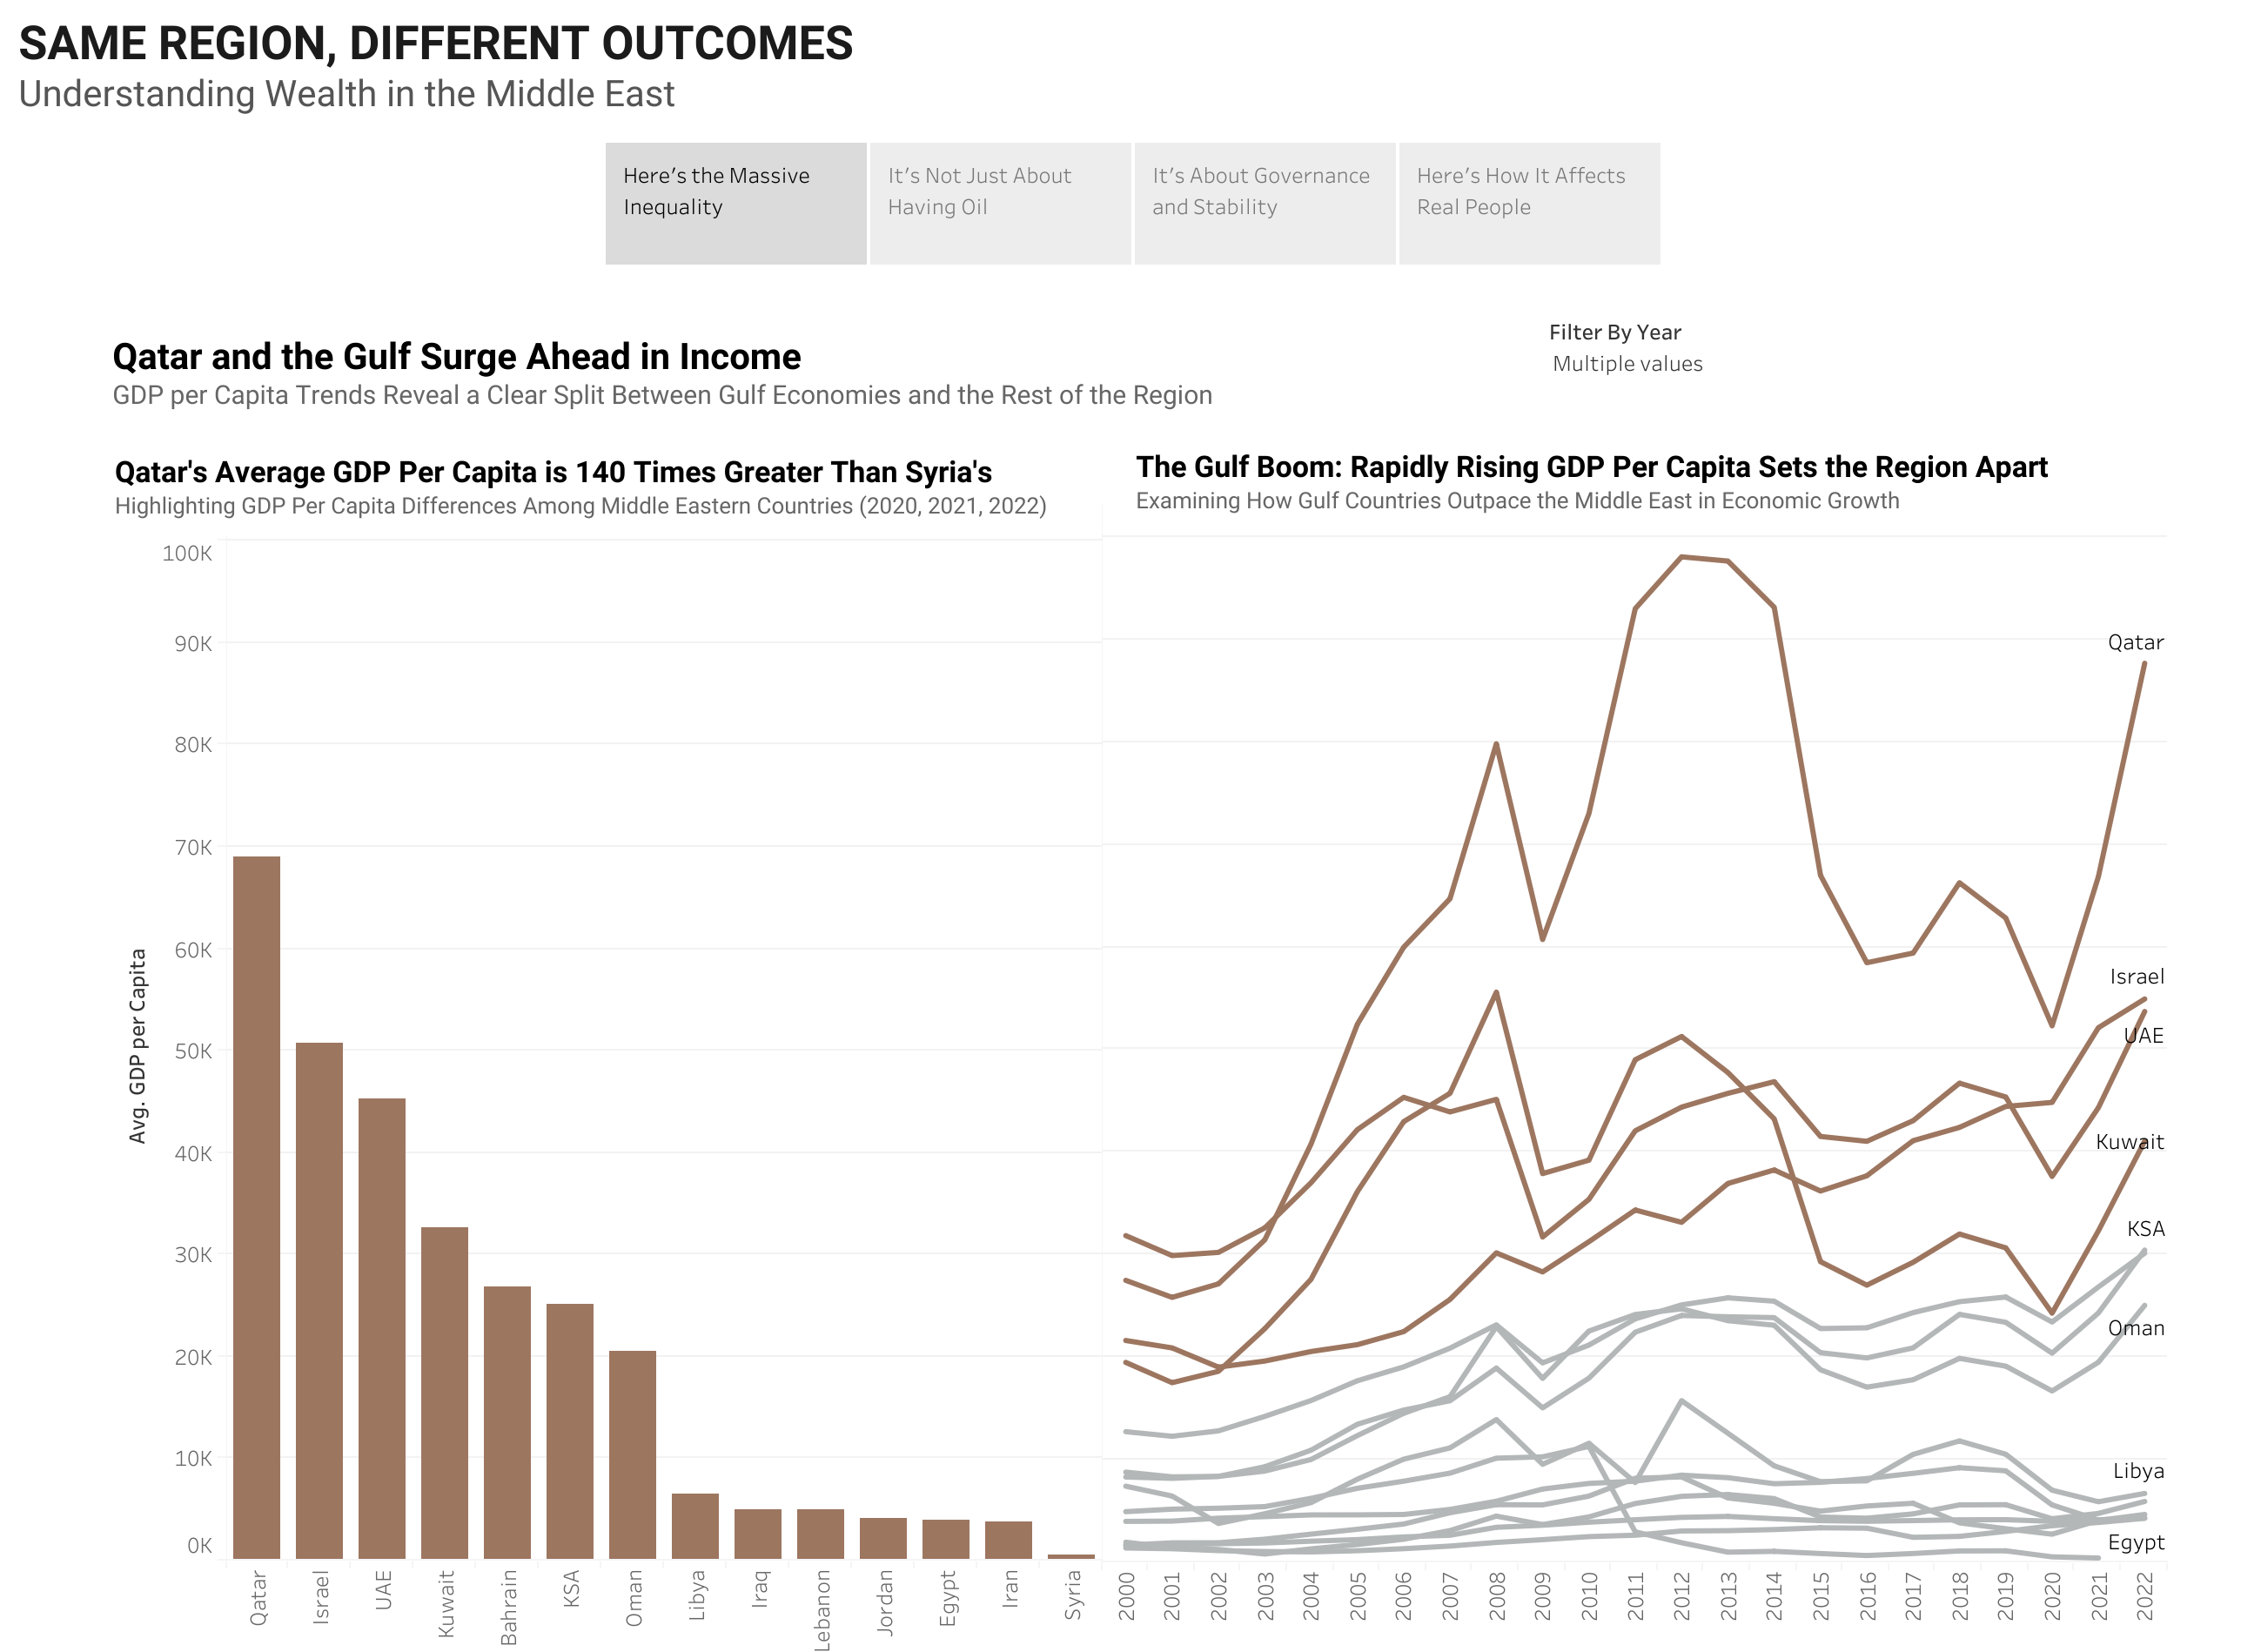

What the dashboard file says about the page in this screenshot:
{"tool":"tableau","page":{"name":"Massive Inequality","canvas":[1200,800],"ordinal":3},"visuals":[{"type":"text","box":[8,8,828,75]},{"type":"filter","title":"Average GDP per Capita in the Middle East","param":"[federated.0wn622w0c99po8187y2s11ew0iw7].[yr:date:ok]","box":[836,8,356,52]},{"type":"text","box":[600,69,587,79]},{"type":"worksheet","title":"Average GDP per Capita in the Middle East","mark":"Automatic","rows":["Calculation_1108307725423251456"],"cols":["country"],"box":[8,83,579,709]},{"type":"worksheet","title":"2000 → 2022 GDP per Capita","mark":"Automatic","rows":["Calculation_1108307725423251456"],"cols":["date"],"box":[583,121,612,648]}]}

Visuals, with their boxes on the page's 1200x800 design canvas (x1, y1, x2, y2). These are canvas units, not pixel positions in the 2261x1652 screenshot, which may show the page scaled, cropped or inside an application window:
text: 8 8 836 83
"Average GDP per Capita in the Middle East" filter: 836 8 1192 60
text: 600 69 1187 148
"Average GDP per Capita in the Middle East" worksheet: 8 83 587 792
"2000 → 2022 GDP per Capita" worksheet: 583 121 1195 769
